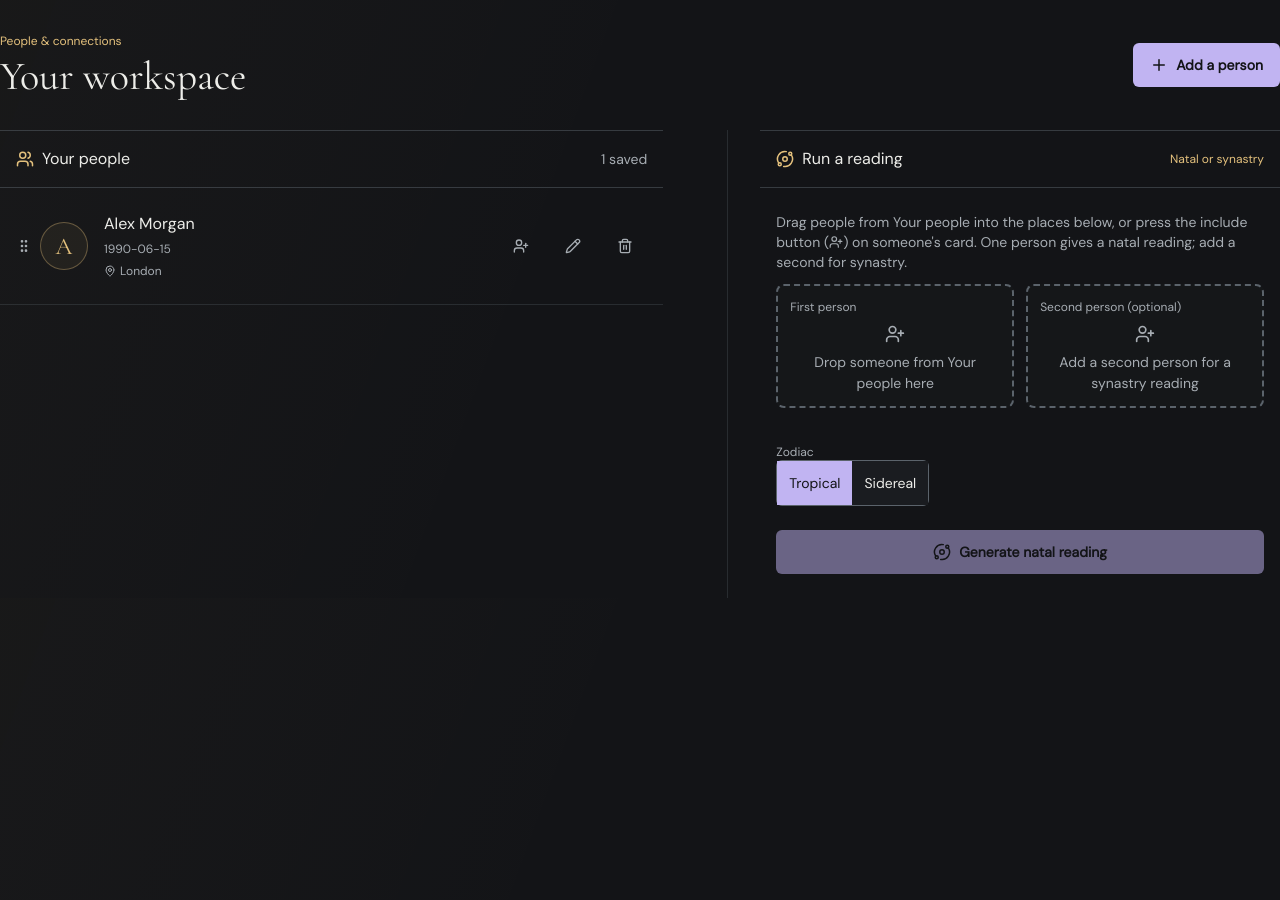
Scenario: Workspace person dialogs › keeps the card inert and edits a person from a dedicated button
The width and height of the screenshot is (1280, 900).
Expected: the heading "Alex Morgan" is shown, [104, 213, 195, 234]
Click the button named "Edit Alex Morgan" at (573, 246), box [551, 224, 595, 268]
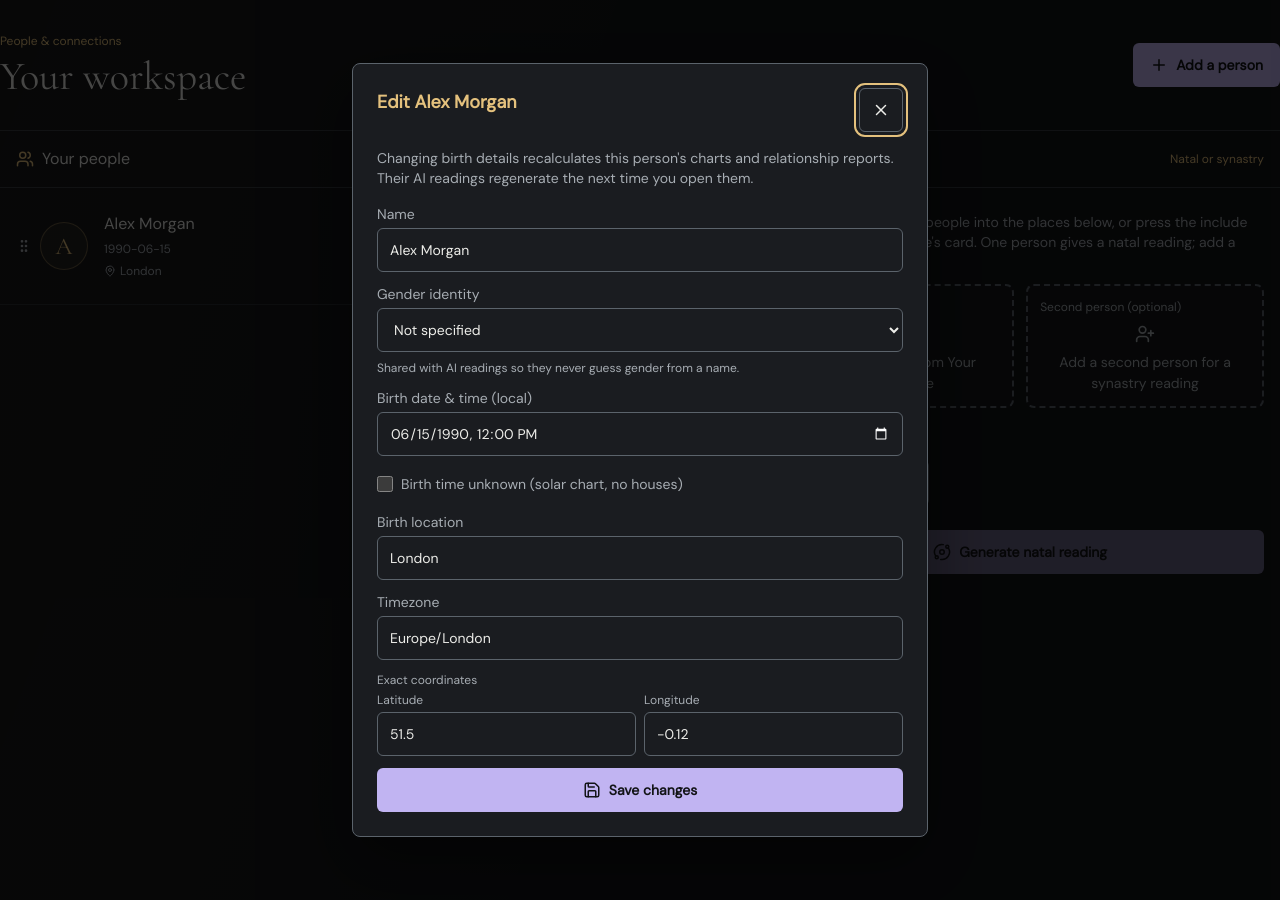
Now the field labelled "Name" holds "Alex Morgan"
Now the field labelled "Latitude" holds "51.5", box [377, 712, 636, 756]
Replace the text in the field labelled "Name" with "Alex M." at (640, 250), box [377, 228, 903, 272]
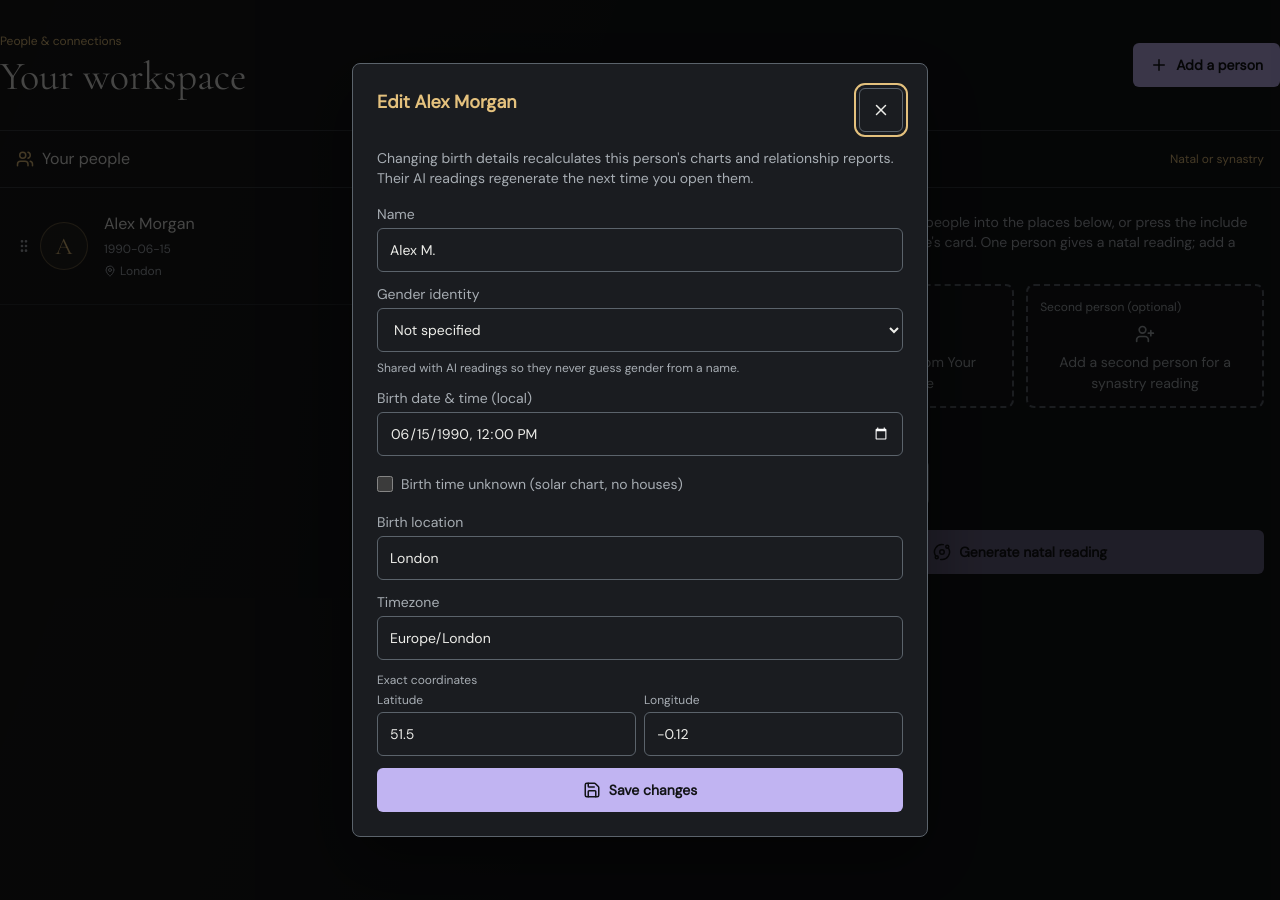
Click the button "Save changes" at (640, 790), box [377, 768, 903, 812]
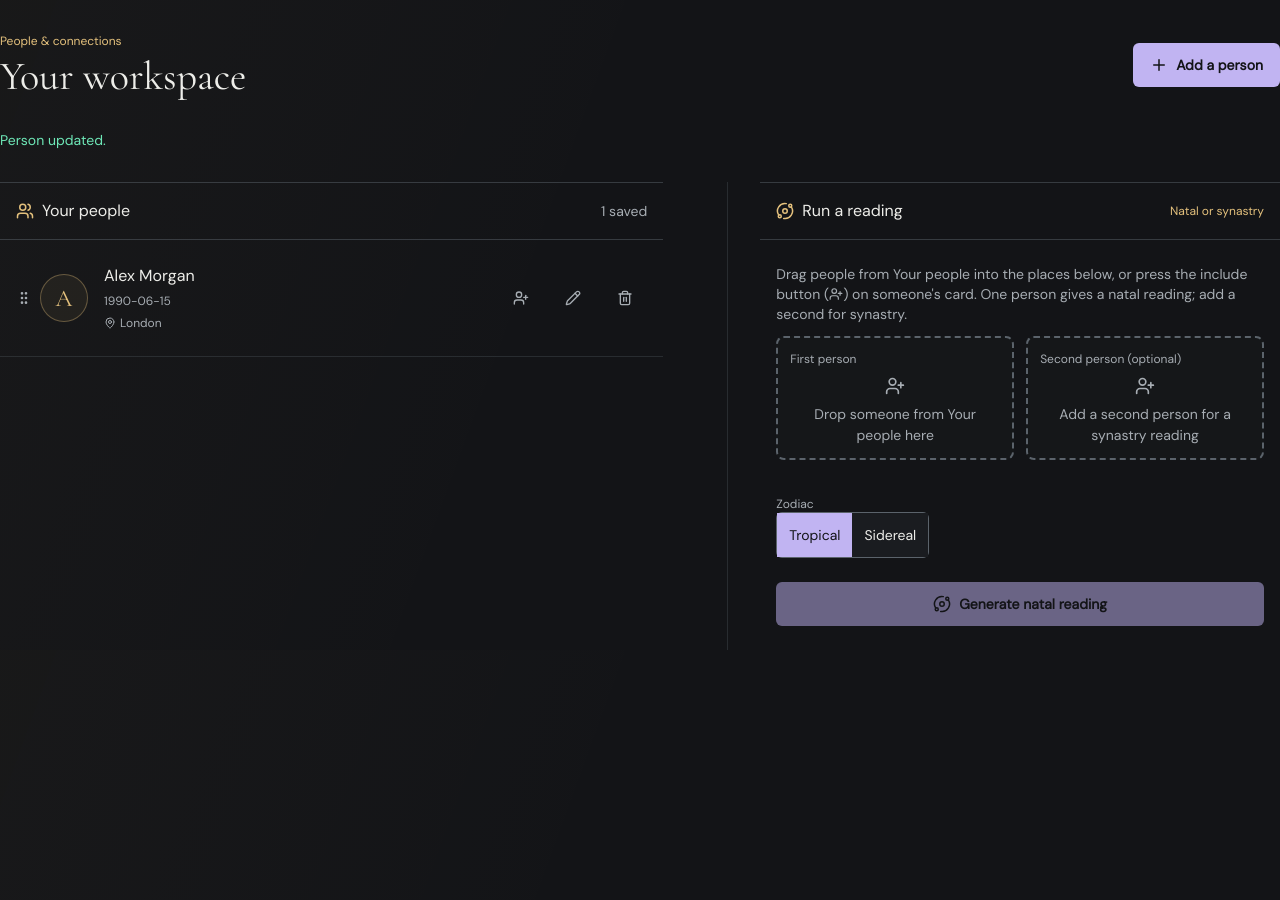
Now the dialog is gone
